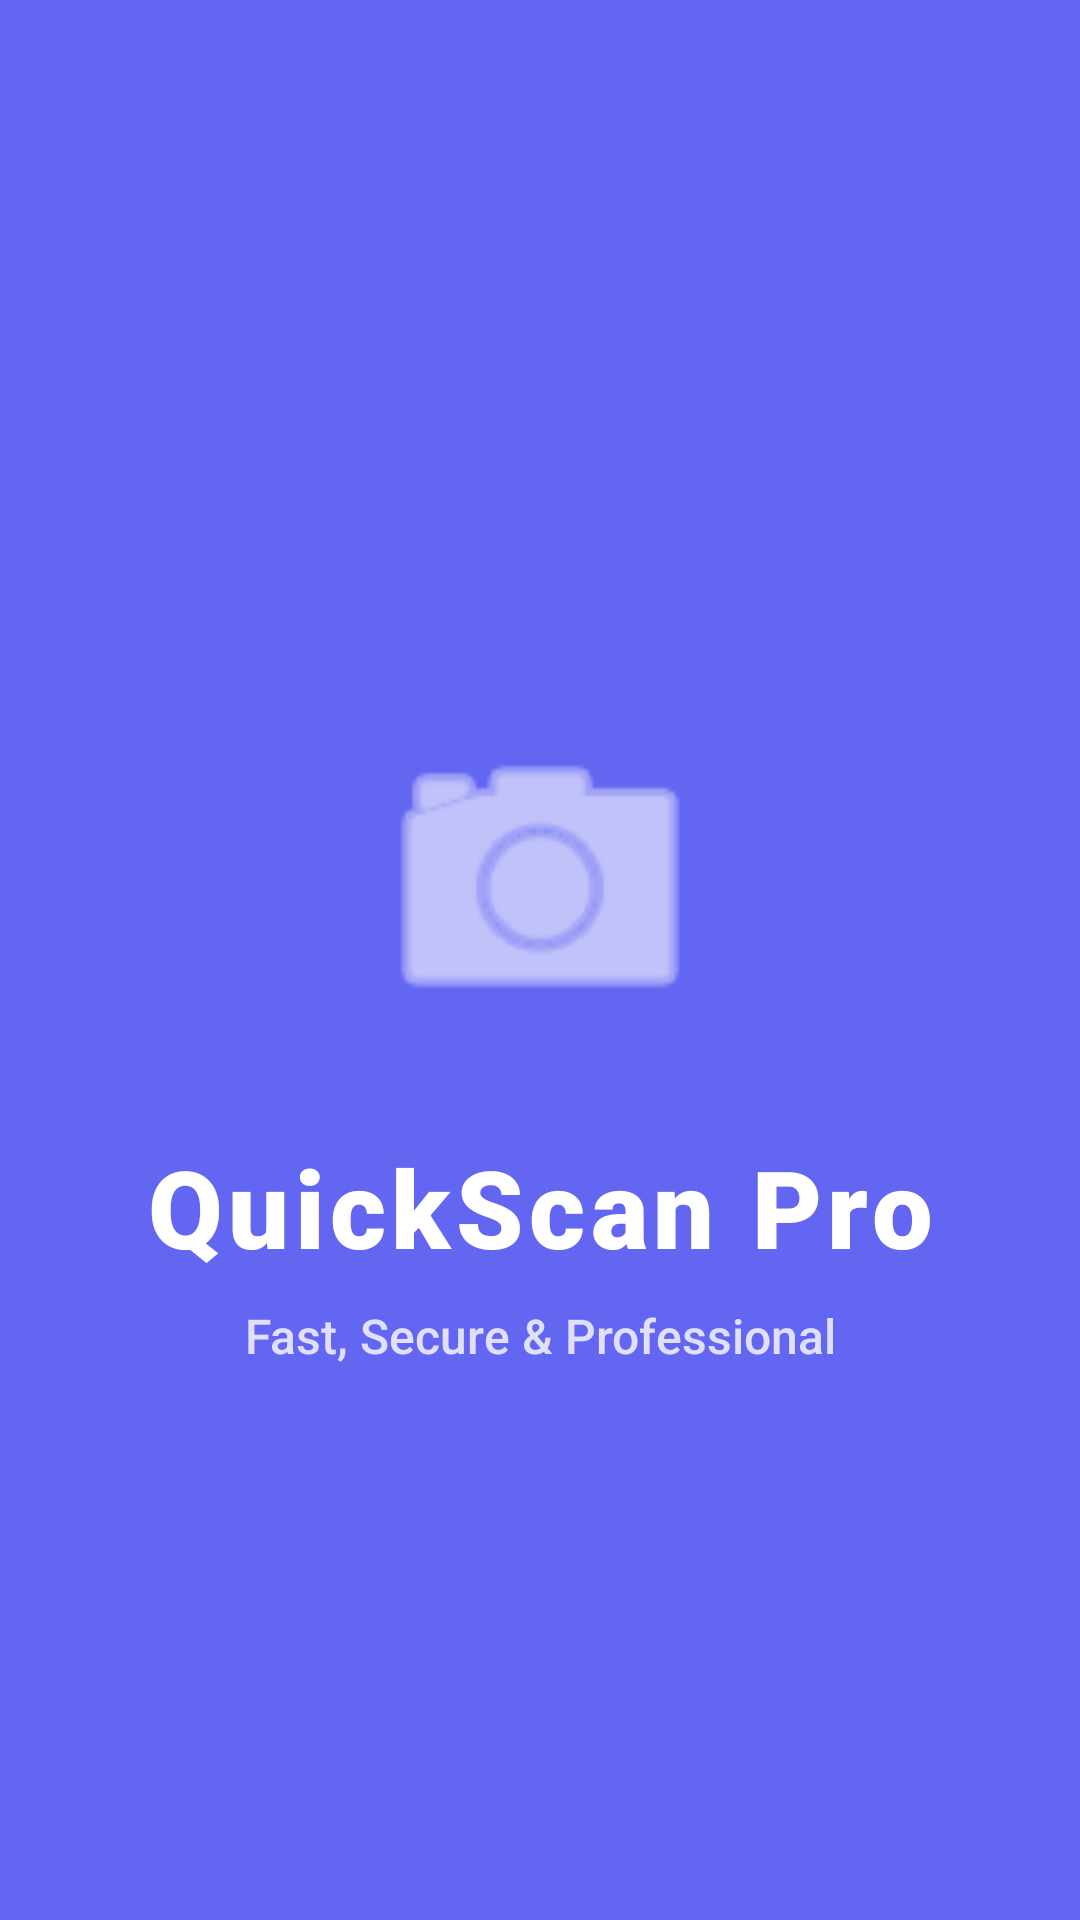

Icon click points for this 1080px x 1920px phone screenshot, format point (x, y):
camera: point (540, 876)
